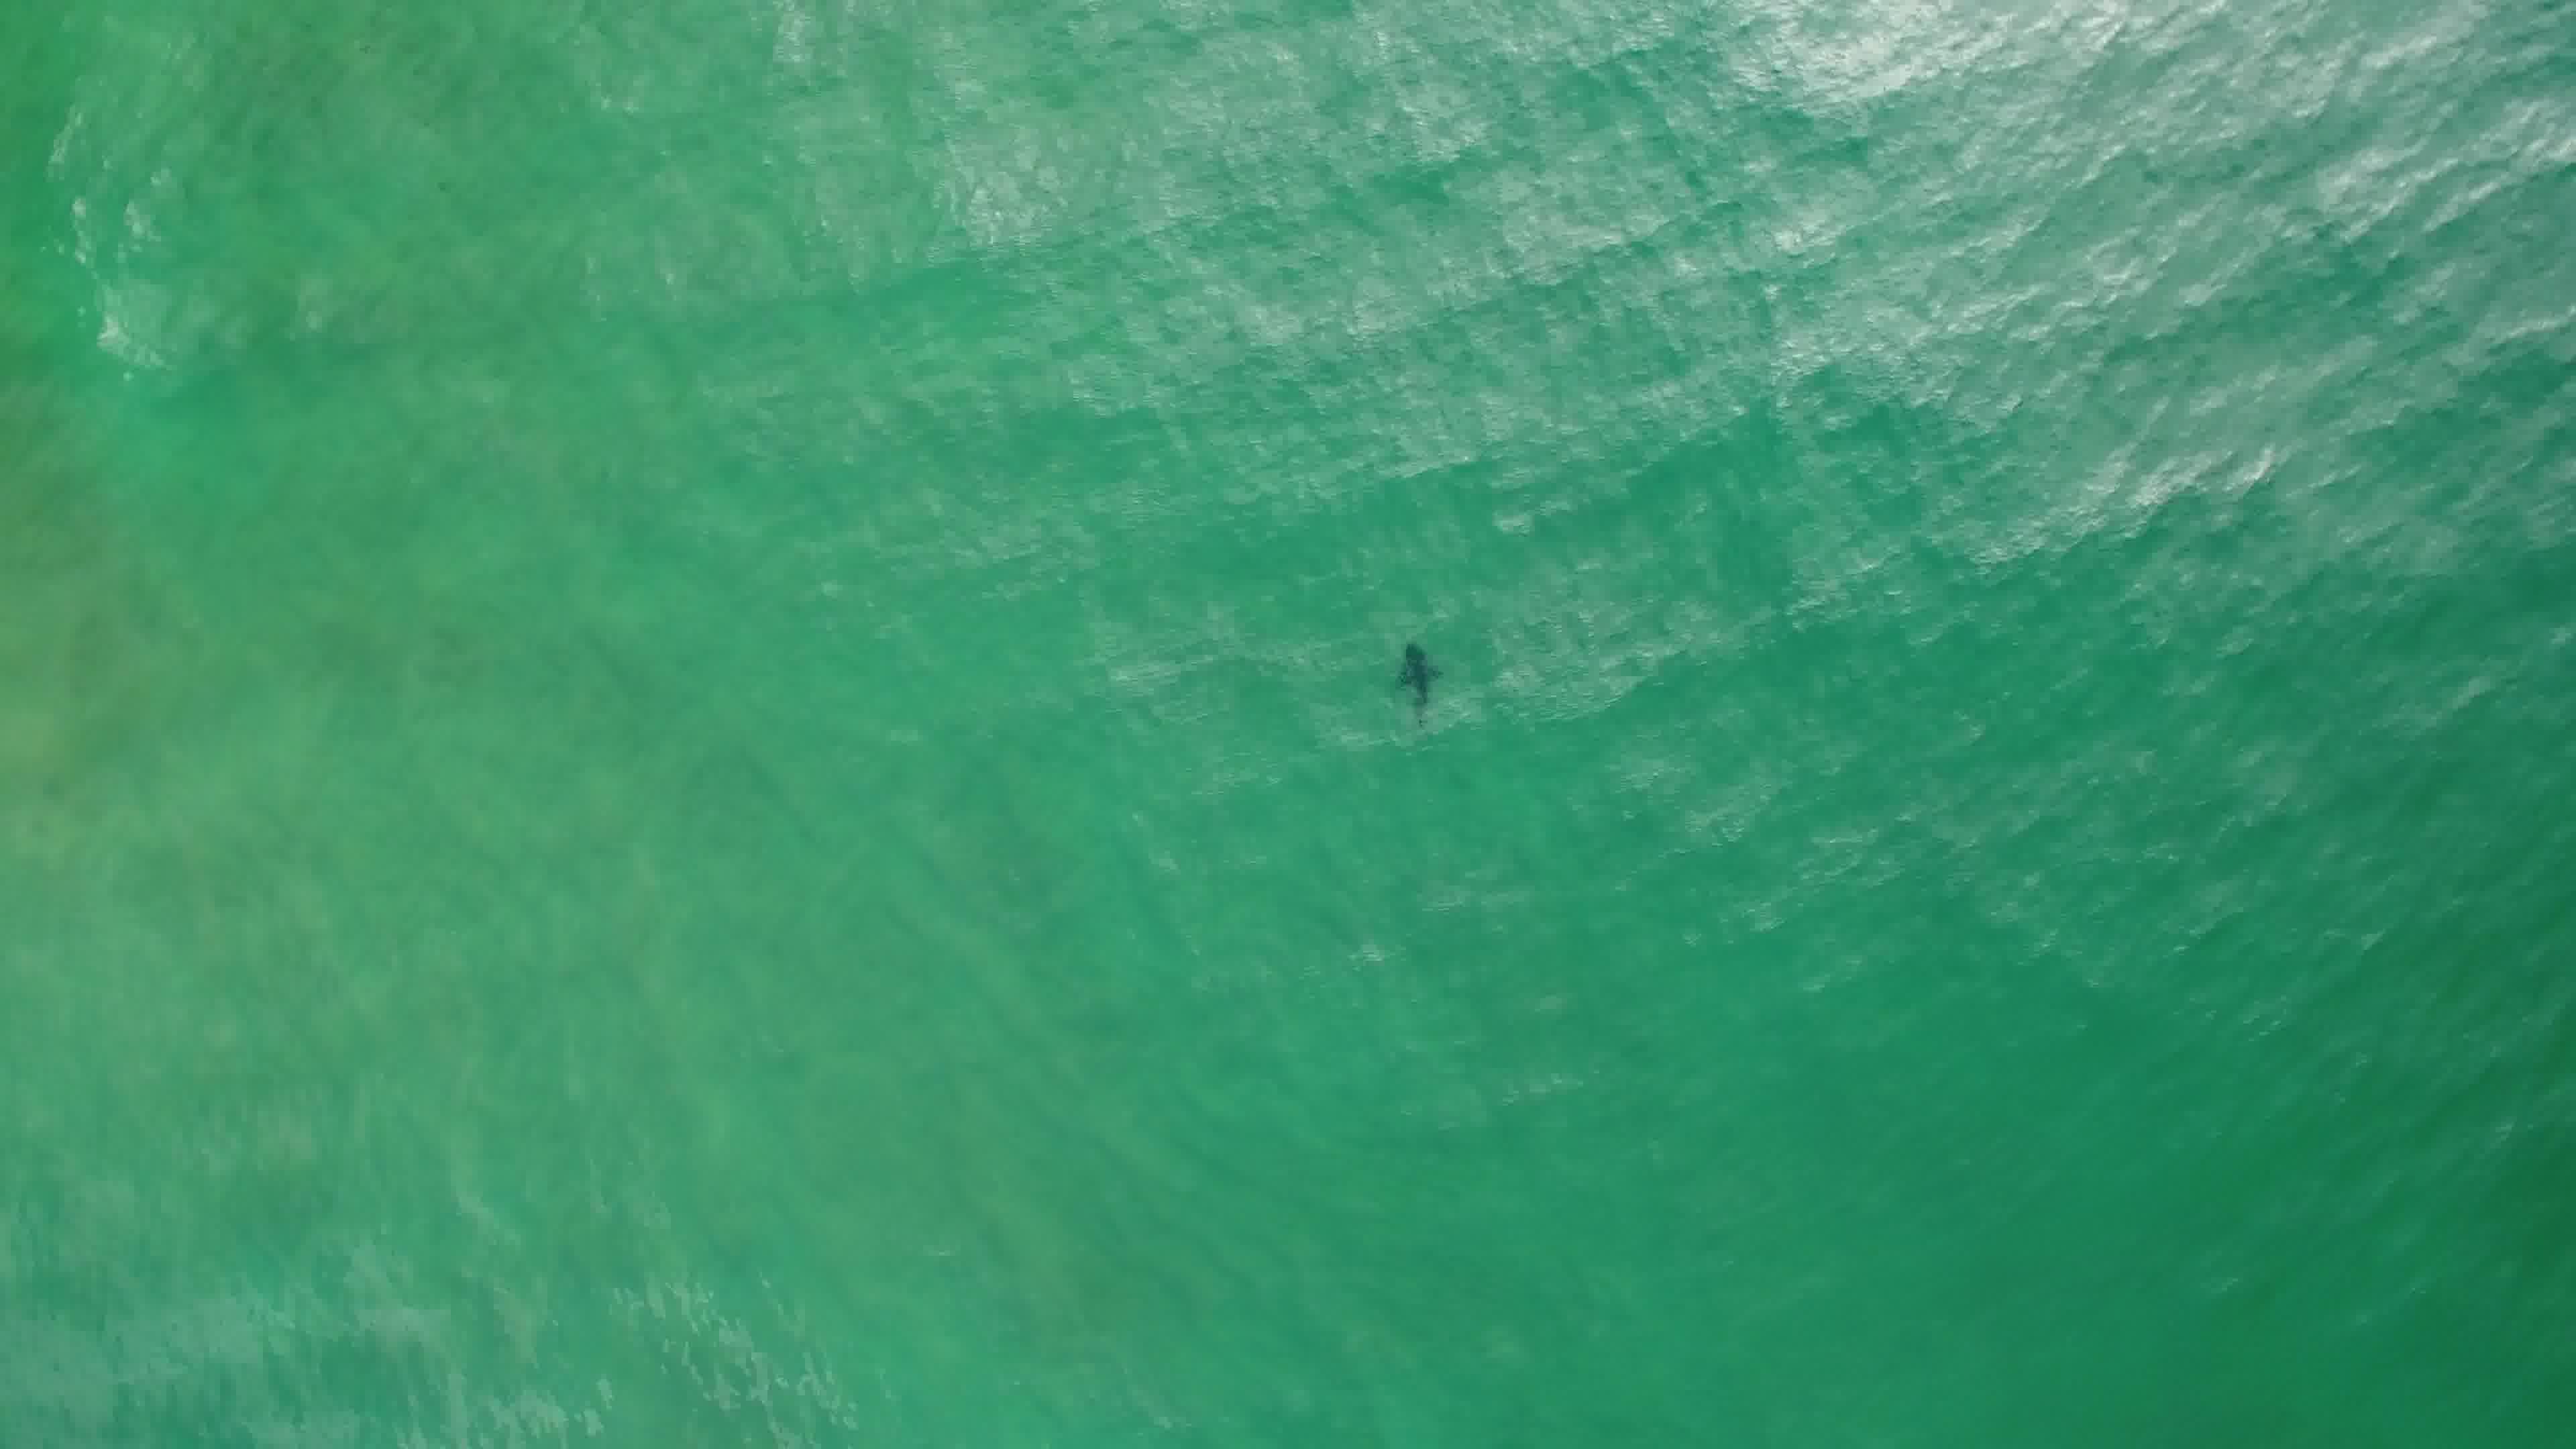shark: (1389, 632, 1447, 736)
